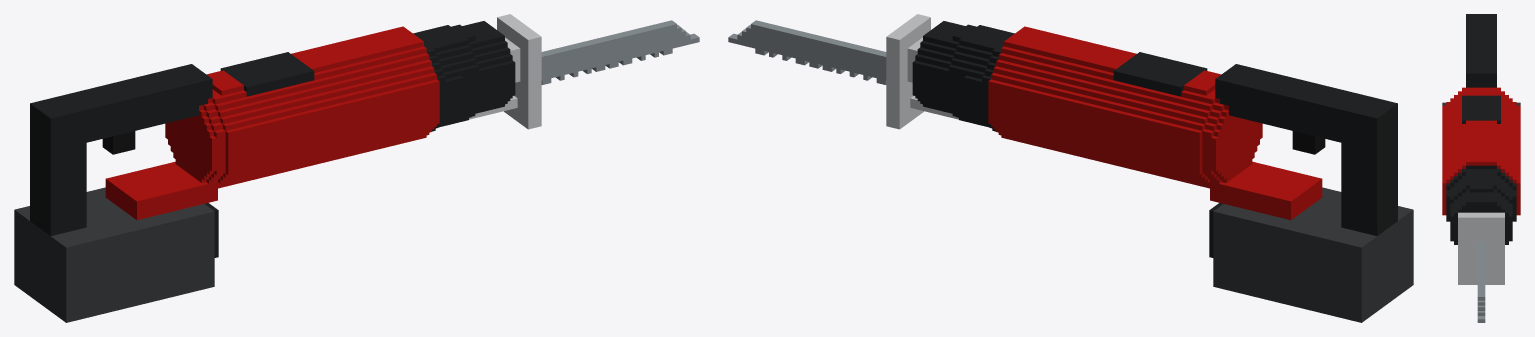
The model's file is reciprocating_saw.glb.
3 views of the same model, side by side, from view 1: azimuth 30°, elevation 25°; view 2: azimuth 150°, elevation 25°; view 3: azimuth 270°, elevation 25° (orthographic). The views are drawn at different scales.
Visible parts, largest first — view 1: reciprocating_saw:compound; view 2: reciprocating_saw:compound; view 3: reciprocating_saw:compound.
Boxes of the visible parts, bbox=[...] form: reciprocating_saw:compound: bbox=[14, 14, 699, 322]; reciprocating_saw:compound: bbox=[728, 14, 1413, 322]; reciprocating_saw:compound: bbox=[1442, 14, 1520, 322].
Bounding box in the file's own units: 0.584 × 0.164 × 0.08.
